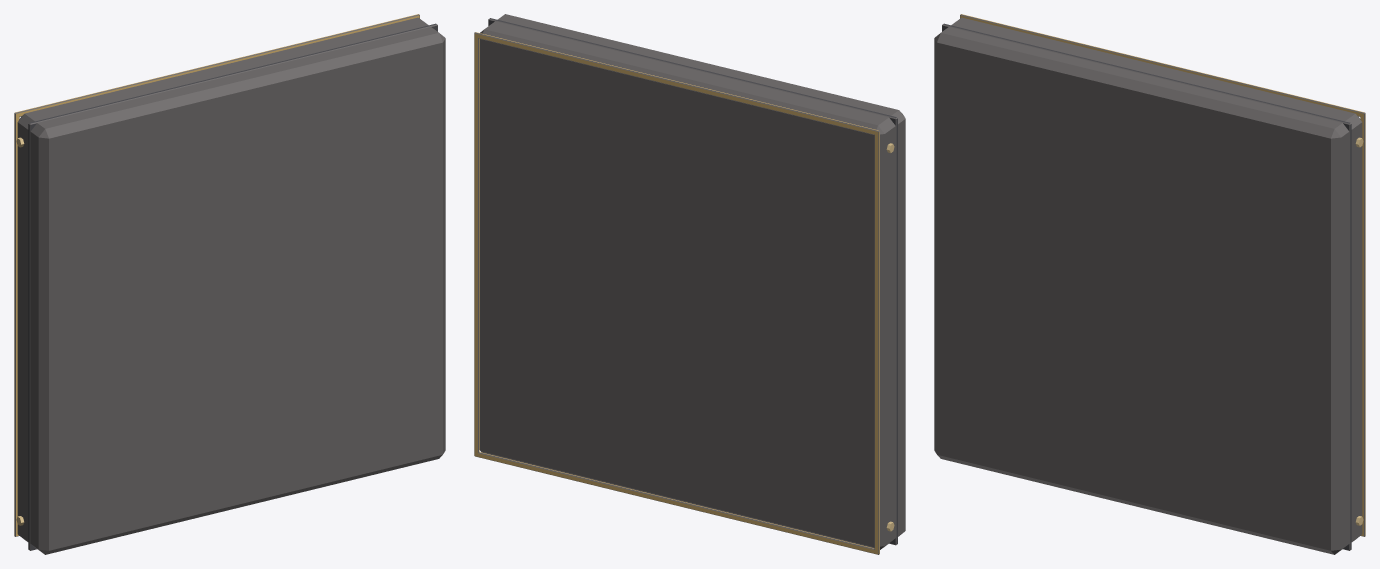
Rendered from Housing_2x2.fbx.
3 renders of one model, left to right at view 1: azimuth 30°, elevation 25°; view 2: azimuth 150°, elevation 25°; view 3: azimuth 330°, elevation 25°, orthographic.
Visible parts, largest first — view 1: Housing_2x2; view 2: Housing_2x2; view 3: Housing_2x2.
Boxes of the visible parts, x1=… form: Housing_2x2: x1=14, y1=14, x2=445, y2=554; Housing_2x2: x1=474, y1=14, x2=905, y2=554; Housing_2x2: x1=934, y1=14, x2=1365, y2=554.
Bounding box in the file's own units: 2.17 × 2.15 × 0.27.
